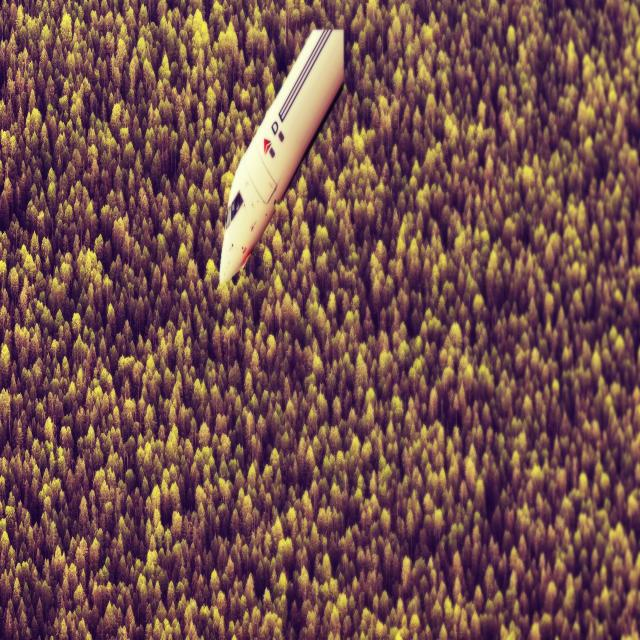airplane: (218, 26, 345, 286)
